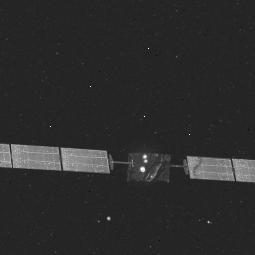smart_1: (10, 130, 254, 190)
